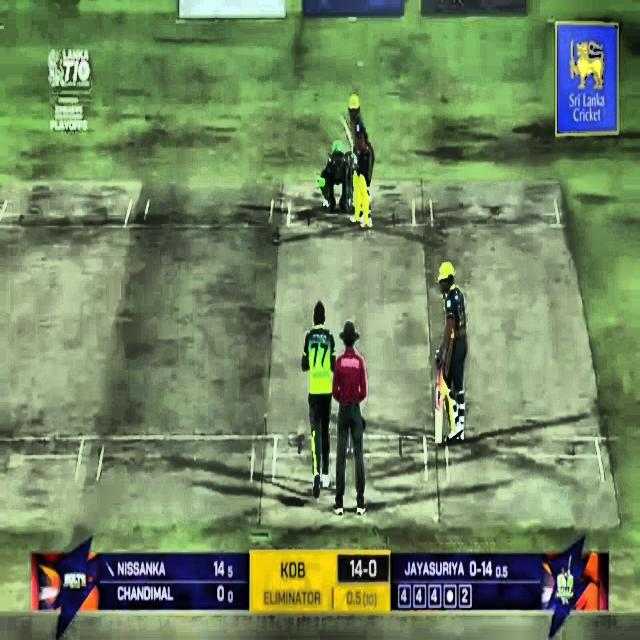Left-stump: (346, 154, 348, 213)
Middle-stump: (350, 166, 353, 213)
